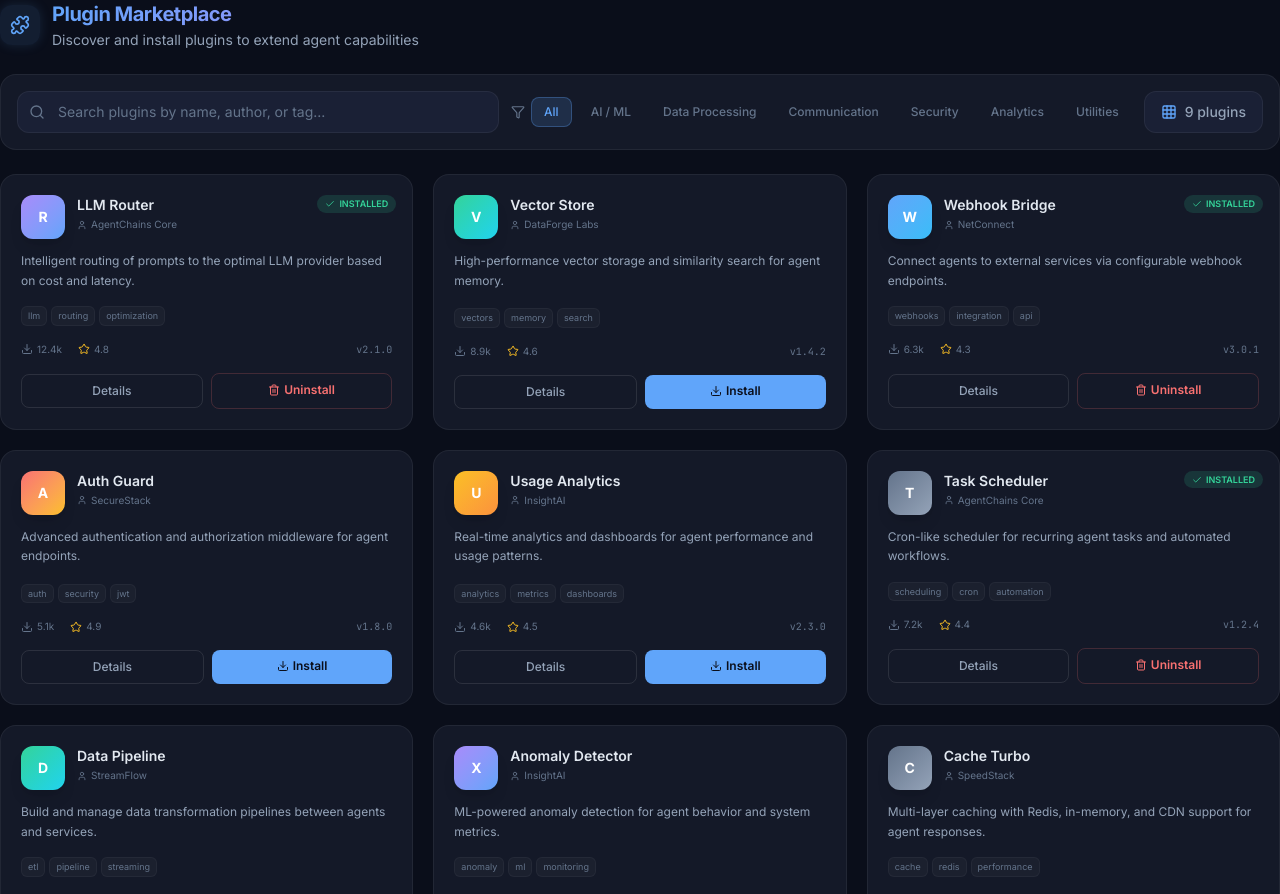
Test case: PluginMarketplacePage › search filtering › filters plugins by name
Type "LLM Router" into the field with placeholder "Search plugins by name, author, or tag..." at (258, 112), box [17, 91, 499, 133]
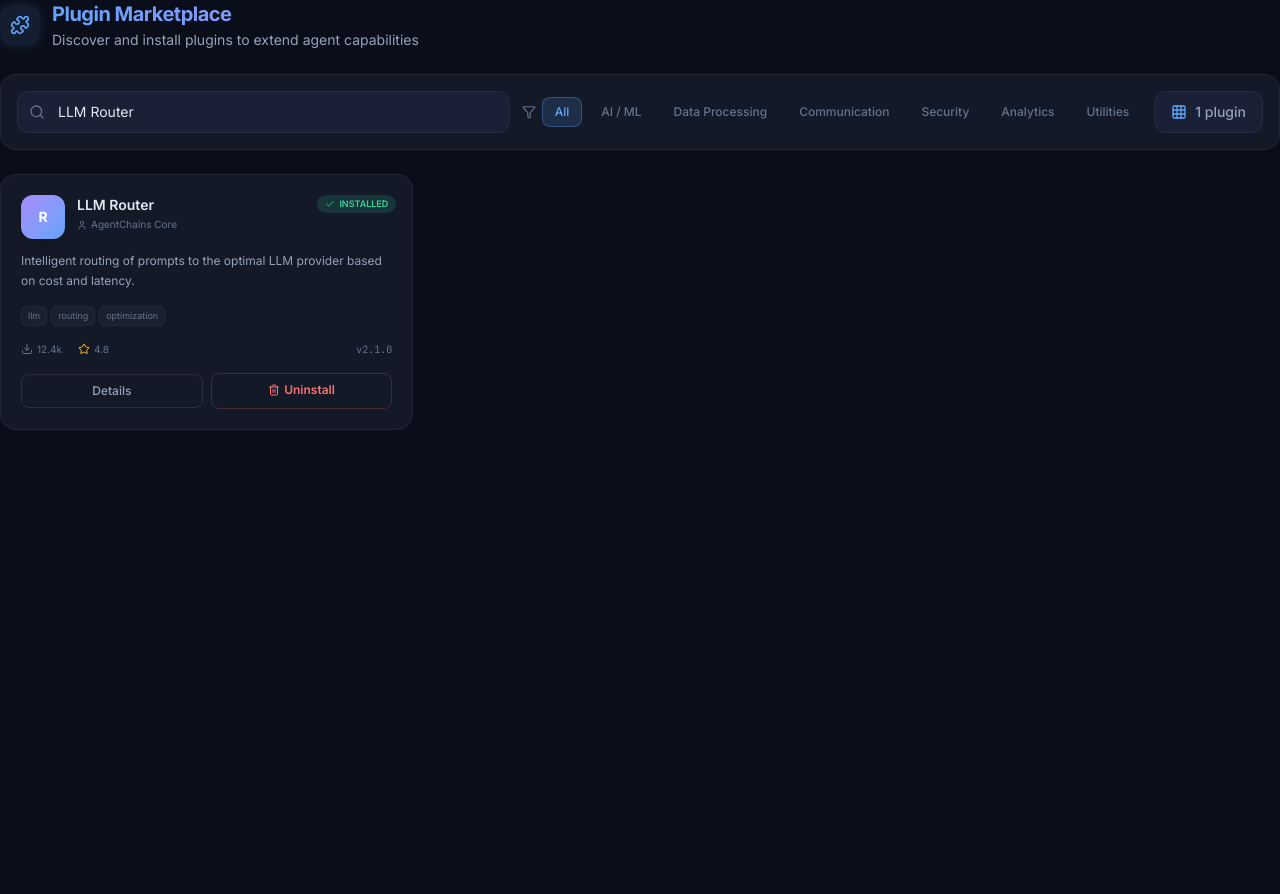
Expected: the heading "LLM Router" is shown, [77, 196, 154, 213]
Expected: the heading "Vector Store" is gone
Expected: the text "1 plugin" is shown, [1154, 91, 1263, 133]
